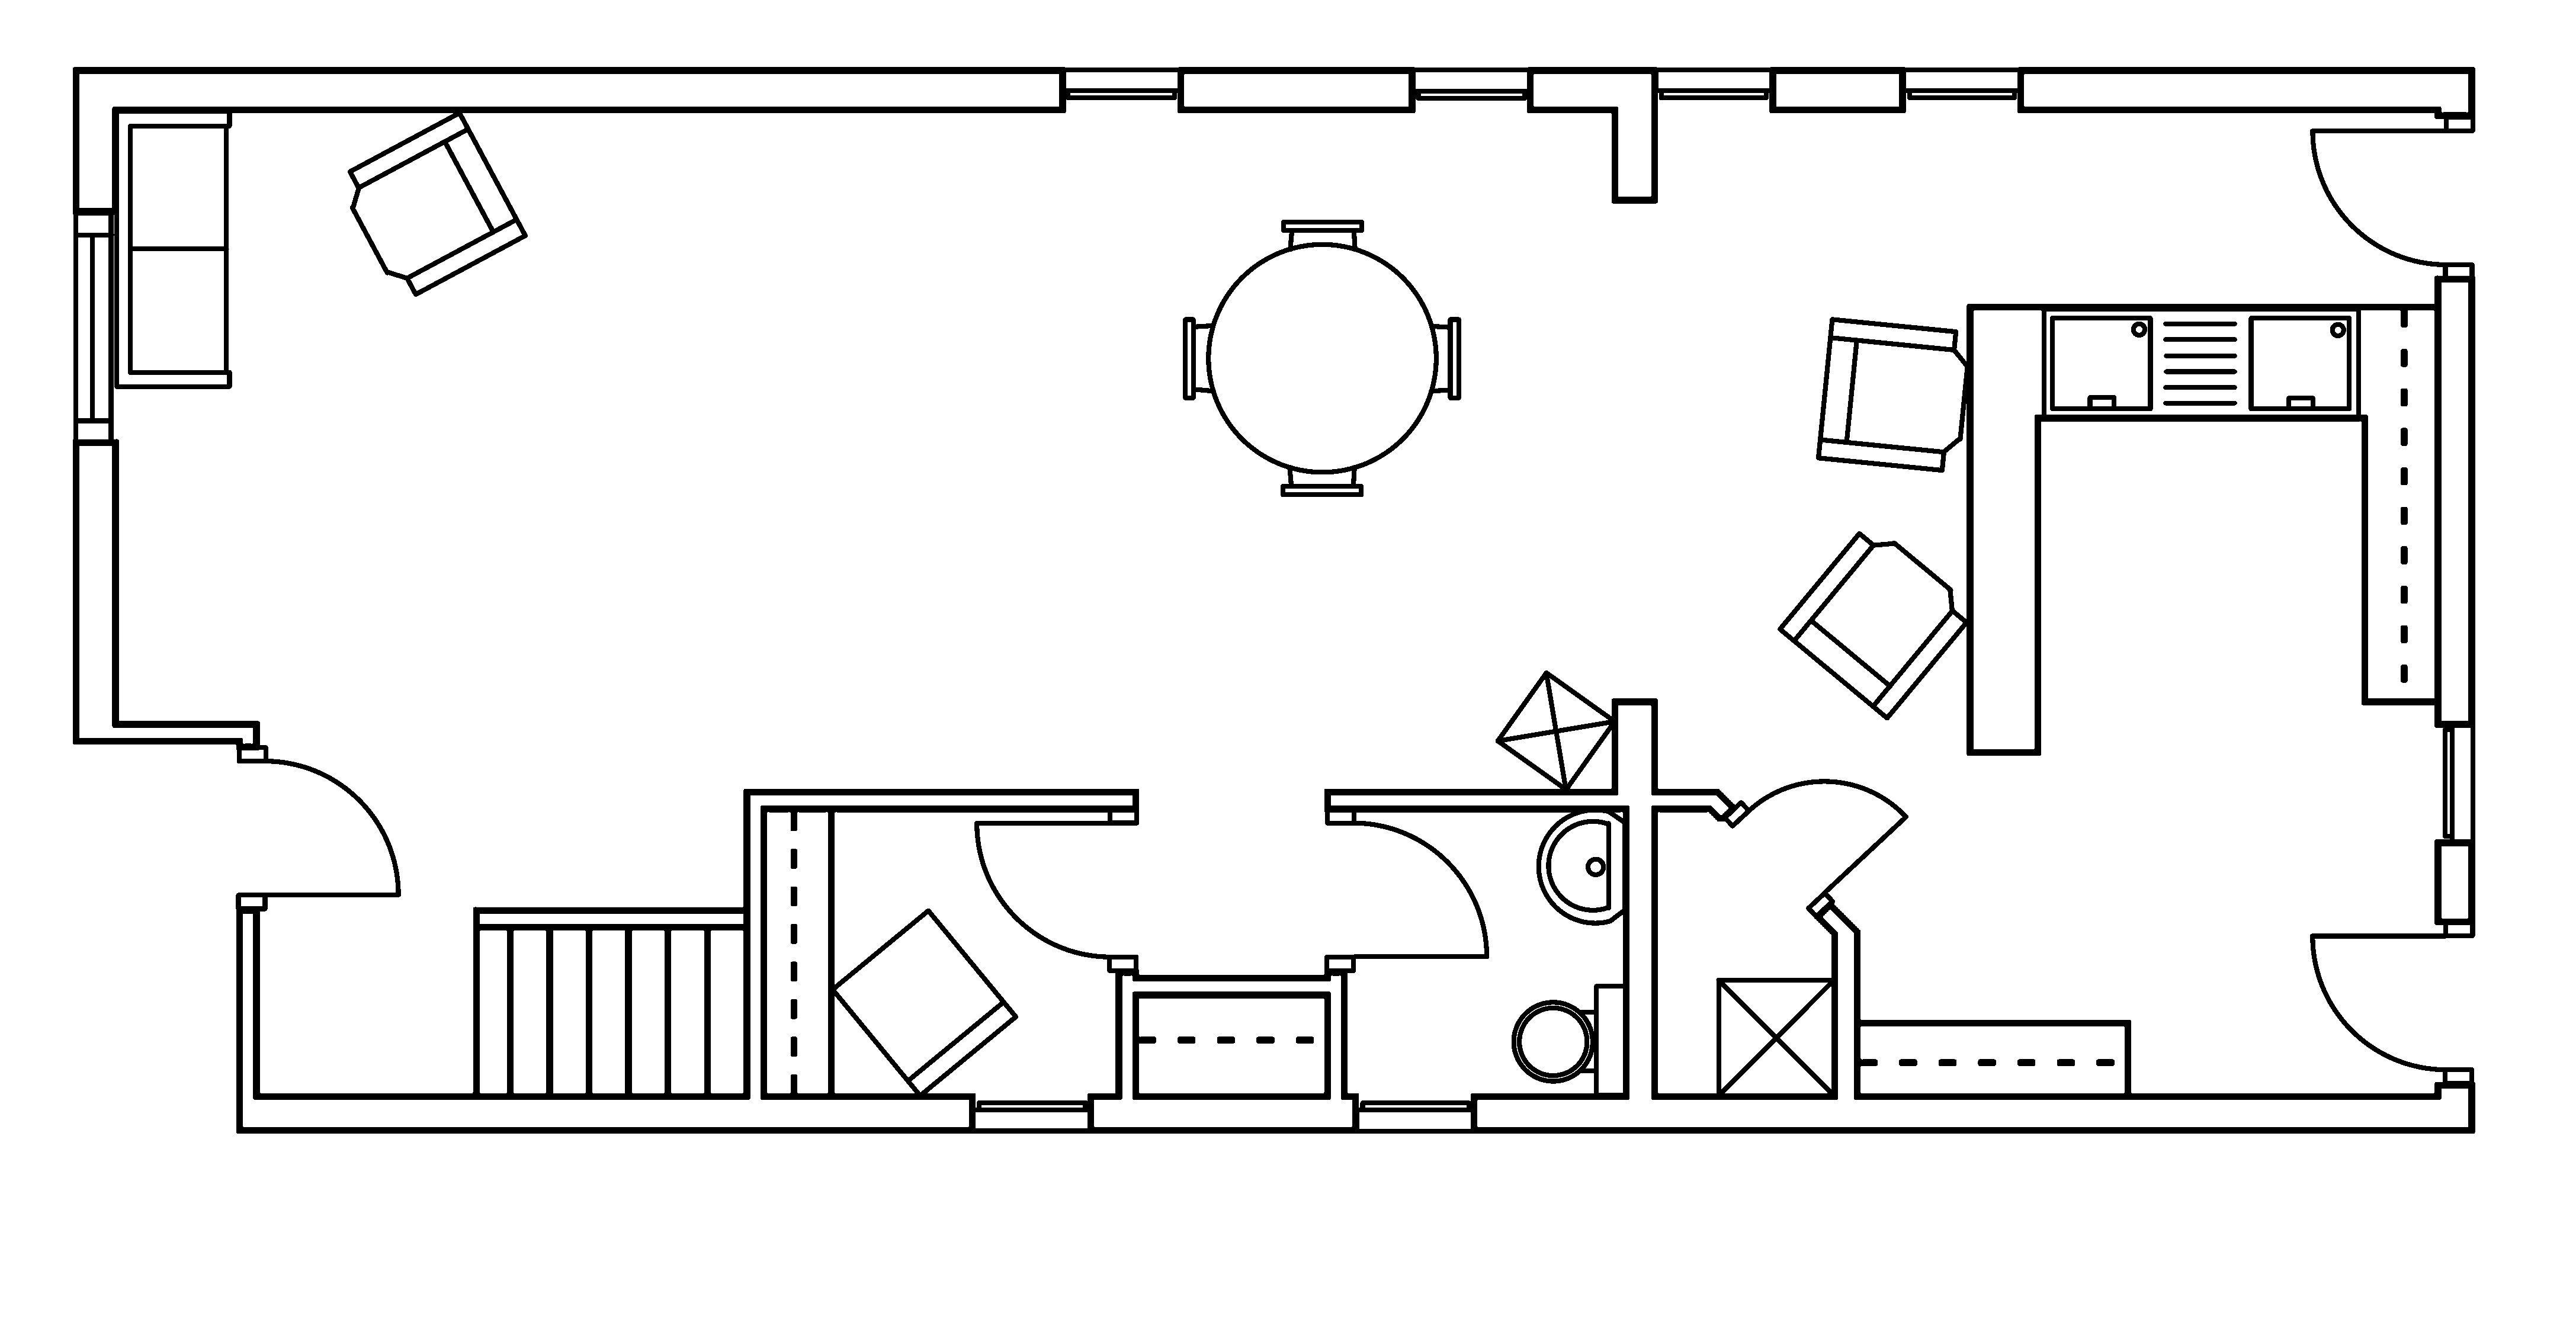armchair: (1776, 530, 1969, 720), (346, 109, 528, 296), (1814, 316, 1971, 473)
coffee_table: (1493, 670, 1618, 792), (1715, 976, 1836, 1099)
large_sink: (1512, 983, 1628, 1097)
large_sofa: (113, 108, 232, 389)
round_table: (1182, 219, 1461, 496)
small_sink: (1535, 808, 1628, 925)
small_sofa: (829, 907, 1019, 1099)
twin_sink: (2040, 305, 2361, 421)
